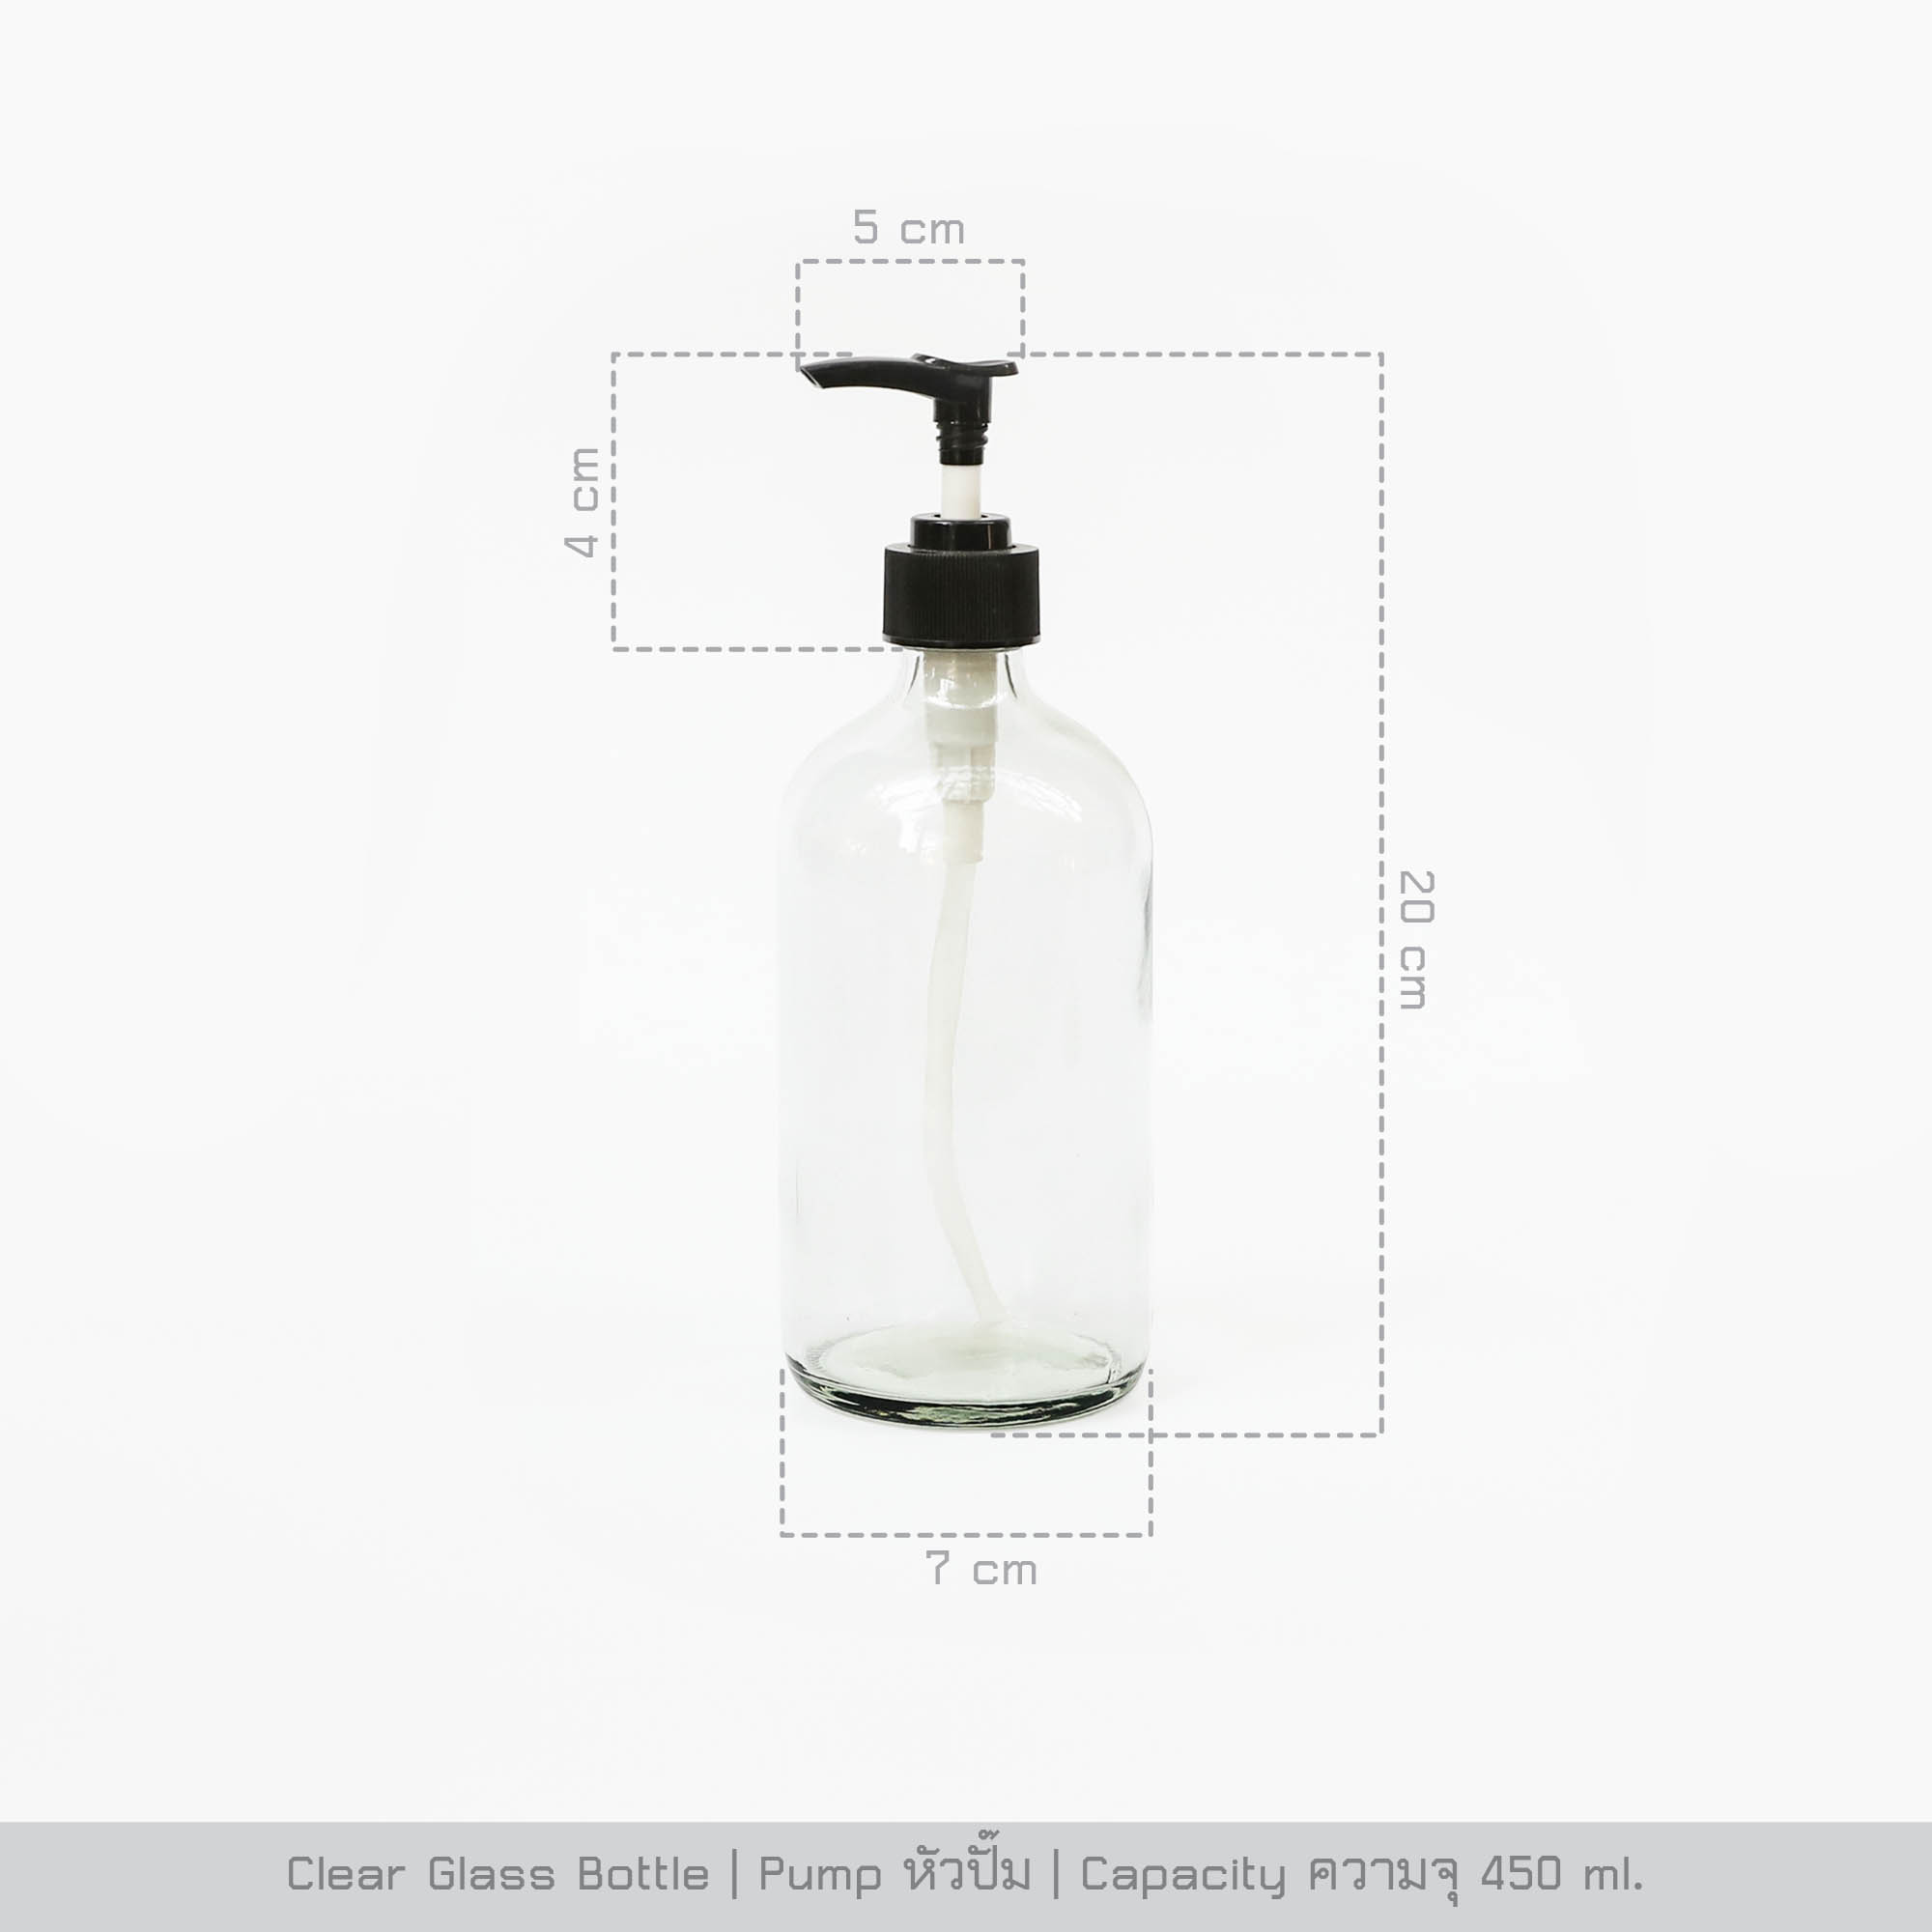glass_bottle: (786, 350, 1164, 1426)
